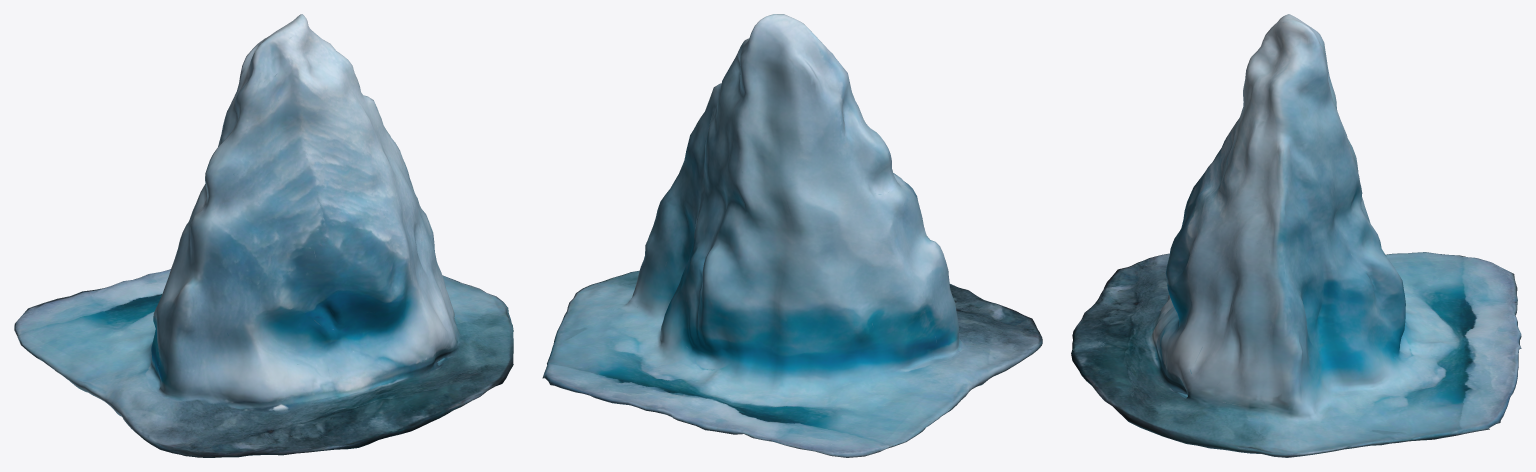
The model's file is Iceberg_0125064505_texture.fbx.
3 views of the same model, side by side, from view 1: azimuth 30°, elevation 25°; view 2: azimuth 150°, elevation 25°; view 3: azimuth 270°, elevation 25° (orthographic). The views are drawn at different scales.
Parts seen in each view (by area): view 1: Mesh1_Mesh1.027; view 2: Mesh1_Mesh1.027; view 3: Mesh1_Mesh1.027.
Boxes of the visible parts, left/top/right/bottom form: Mesh1_Mesh1.027: left=14, top=14, right=513, bottom=457; Mesh1_Mesh1.027: left=542, top=14, right=1042, bottom=457; Mesh1_Mesh1.027: left=1071, top=14, right=1521, bottom=457.
Bounding box in the file's own units: 199 × 162 × 187.
Materials: 1 (1 with a texture image).
